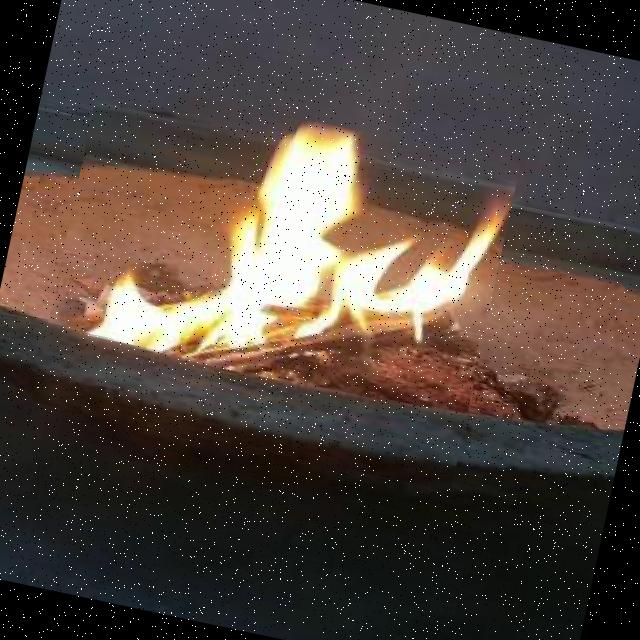fire: (31, 75, 520, 491)
